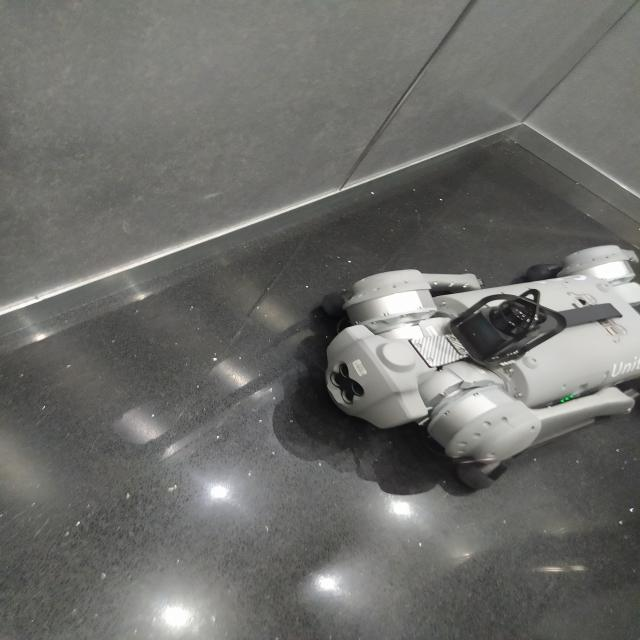unitree-go1-robot: (336, 246, 640, 484)
